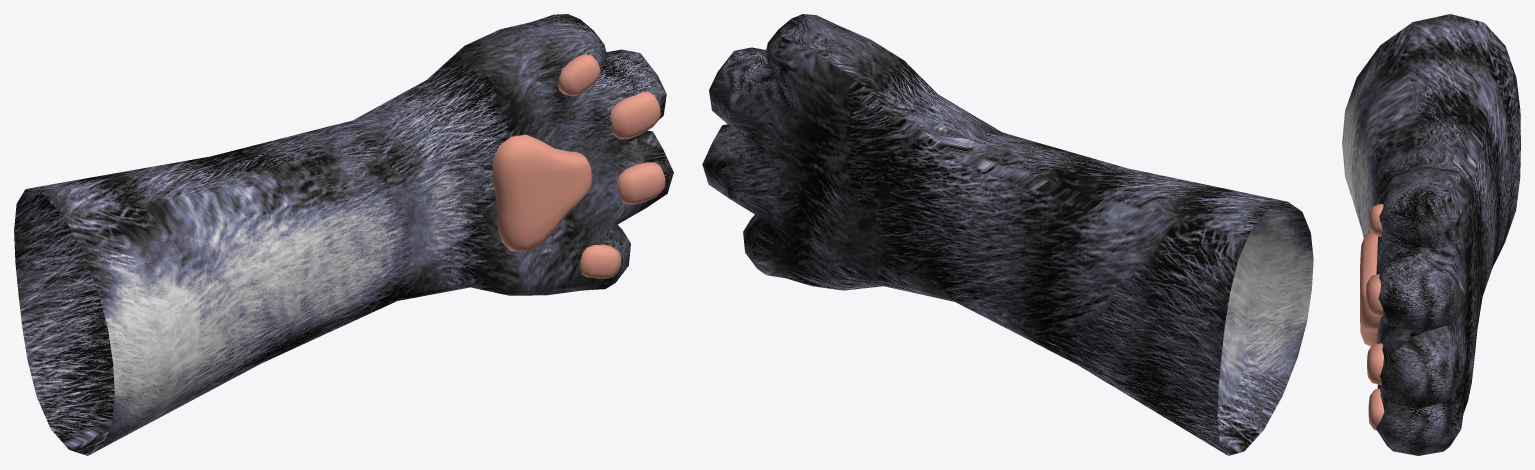
Rendered from paperBlack.glb.
The picture shows the model from 3 angles, left to right: view 1: azimuth 30°, elevation 25°; view 2: azimuth 150°, elevation 25°; view 3: azimuth 270°, elevation 25°; orthographic projection. The views are drawn at different scales.
Visible parts, largest first — view 1: Paper_BLACK; view 2: Paper_BLACK; view 3: Paper_BLACK.
Boxes of the visible parts, bbox=[...] form: Paper_BLACK: bbox=[14, 14, 673, 455]; Paper_BLACK: bbox=[702, 14, 1313, 455]; Paper_BLACK: bbox=[1342, 14, 1520, 455].
Bounding box in the file's own units: 0.9768 × 0.5001 × 0.2647.
Materials: 2 (1 with a texture image).
